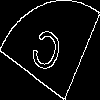C: (25, 25, 65, 84)
